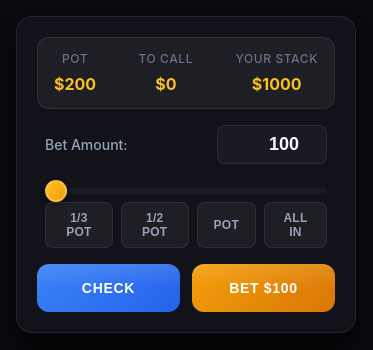
Test: BettingControls › Button States › should disable bet button when amount is too low
Replace the text in the number field with "50" at (272, 144), box 217,125 -> 327,164
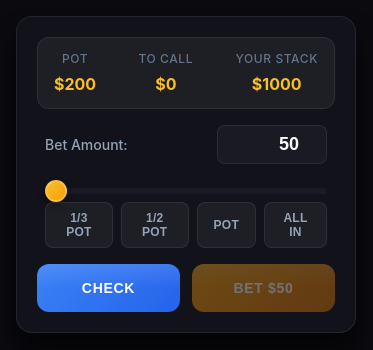
Result: the button "Bet $50" is disabled at 192,264 -> 335,312
